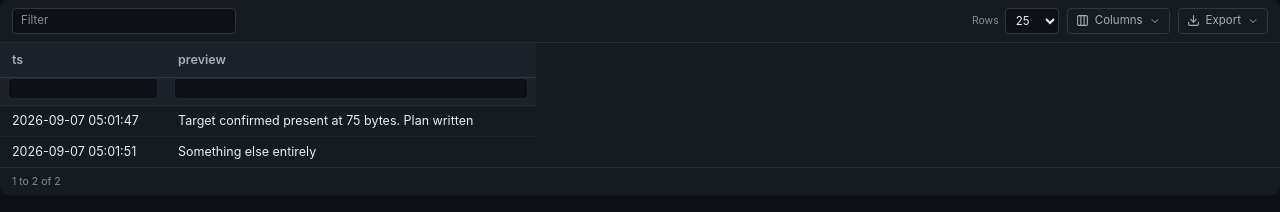
Test: searching a table whose text the server had to cut › says so when the fetch fails, rather than reporting a narrower search as an answer
The image size is (1280, 212).
Type "Target confirmed" into the field named "Filter tbl-messages" at (124, 21), box [12,8,236,34]
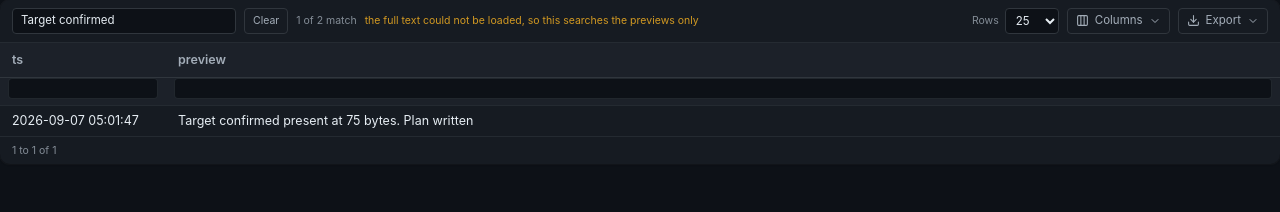
Expected: the message shows "the full text could not be loaded", [365,14,699,27]
